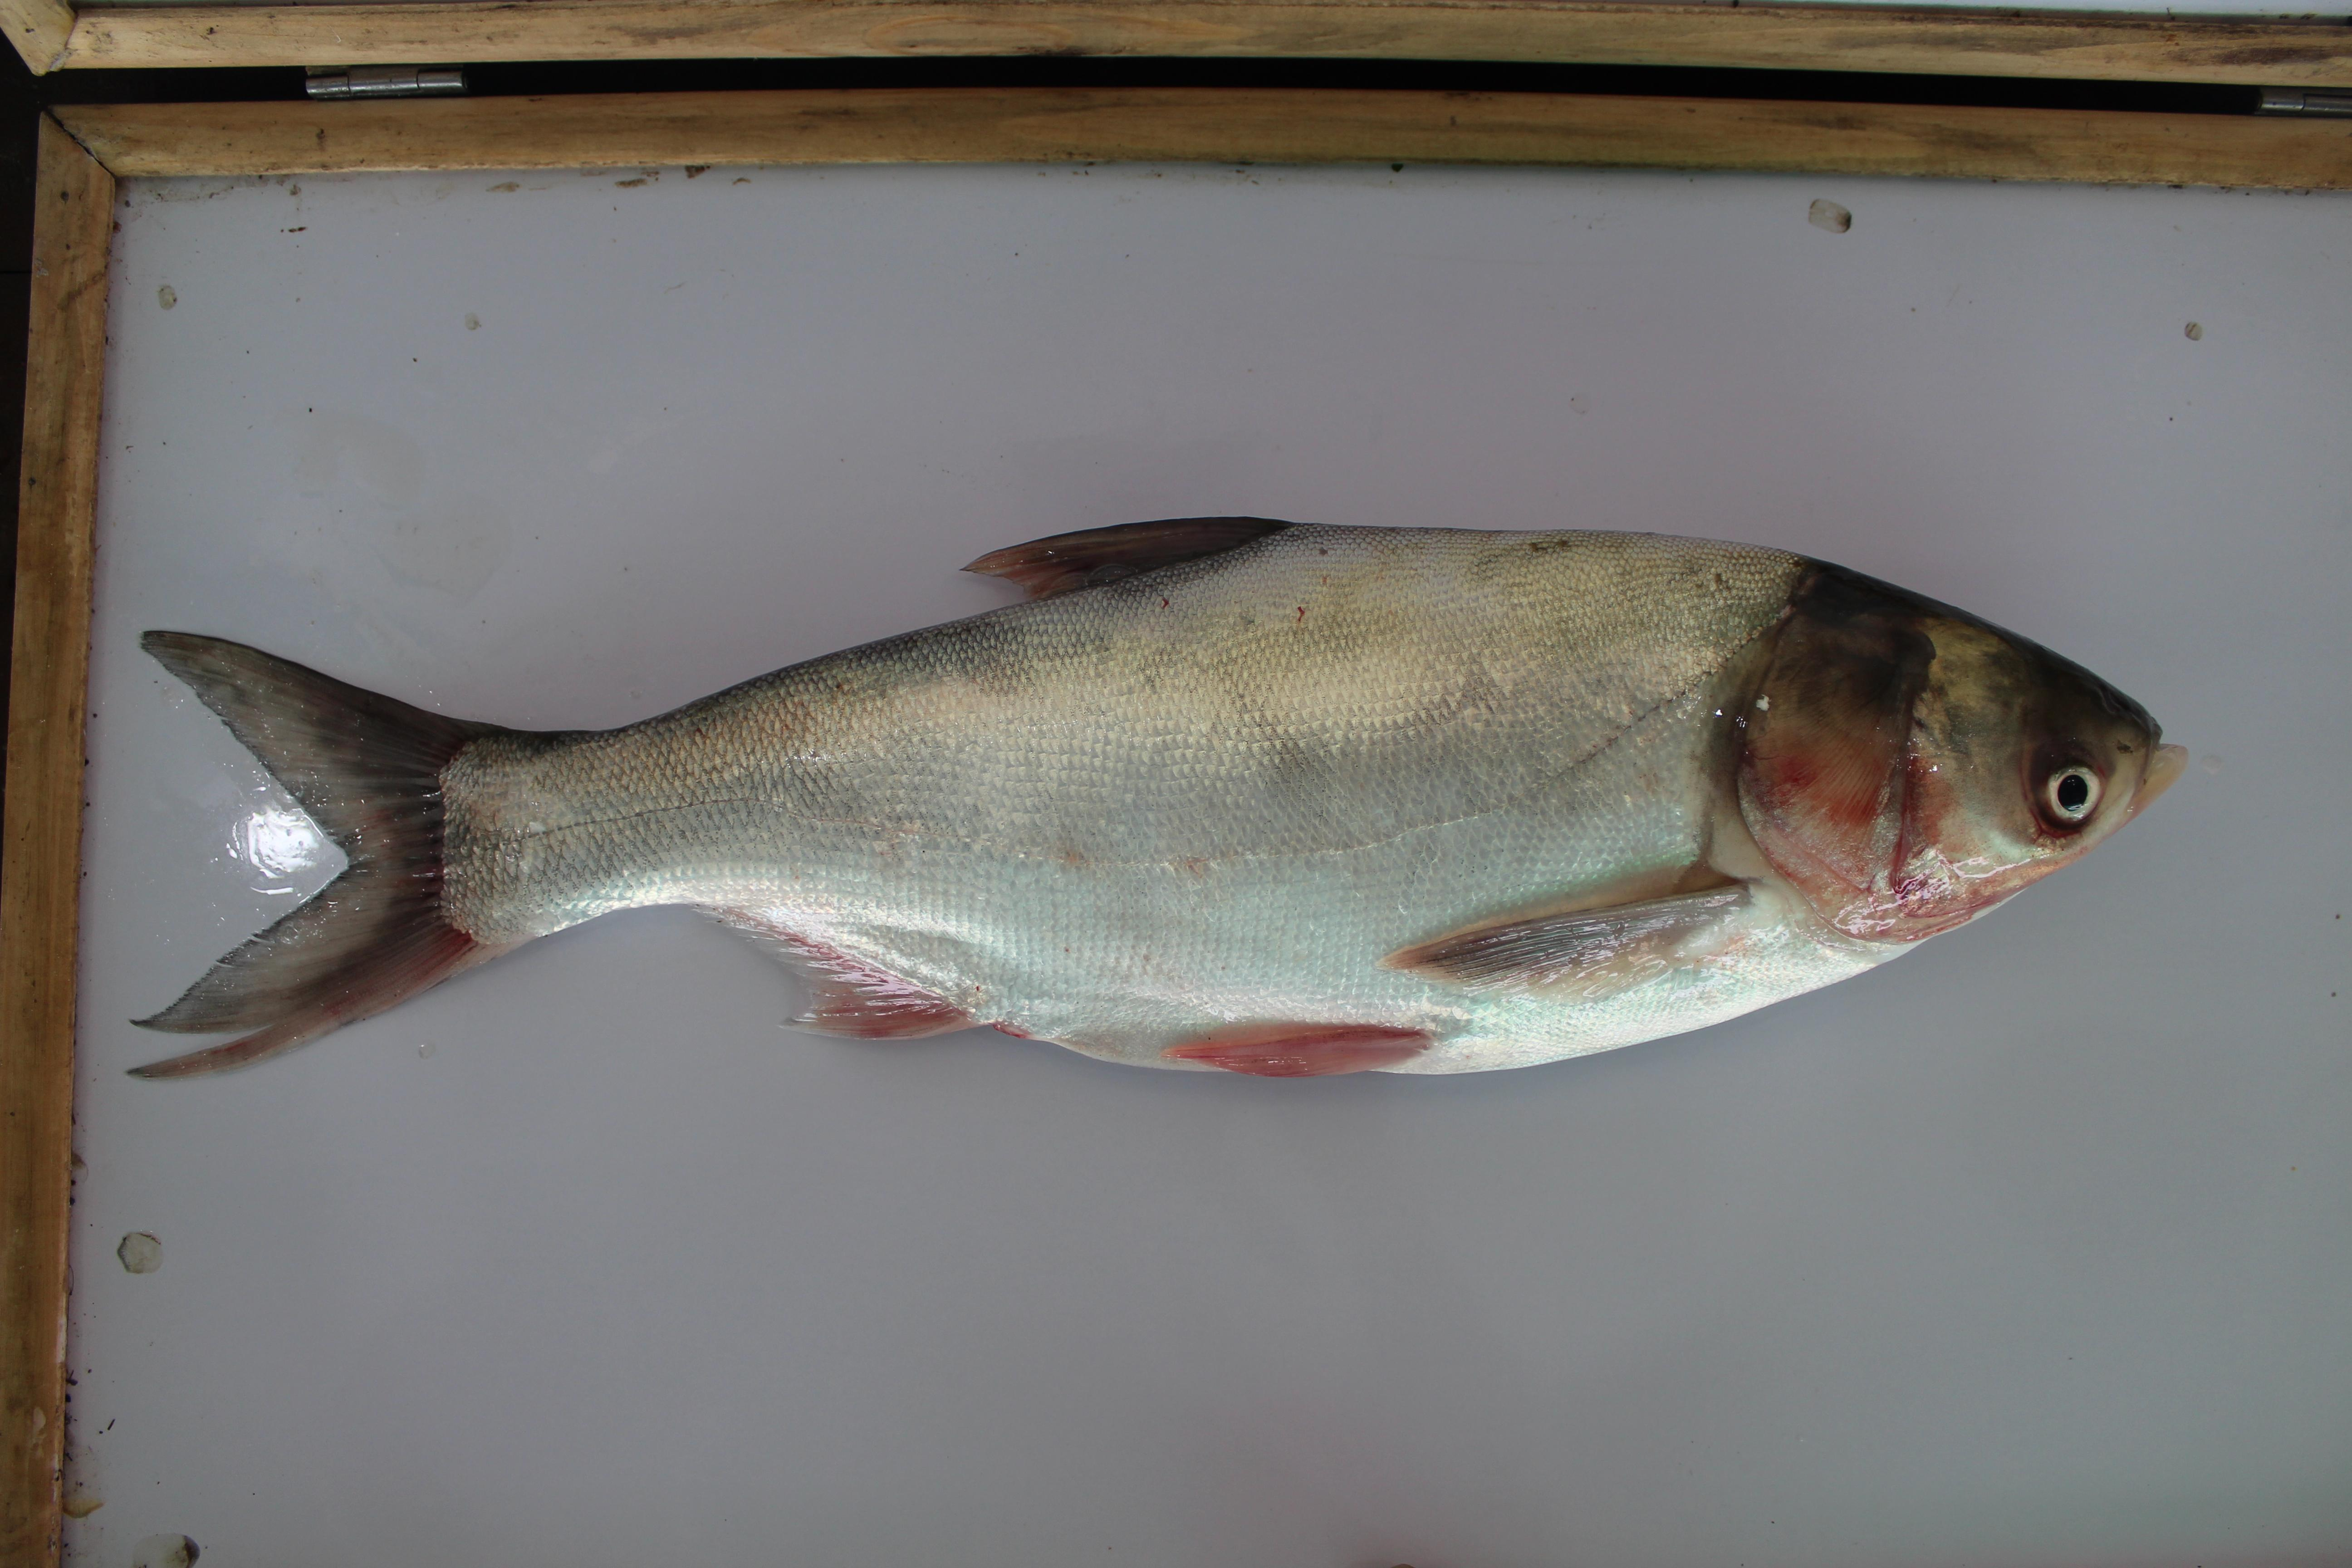Silver Carp: (124, 485, 2179, 1179)
